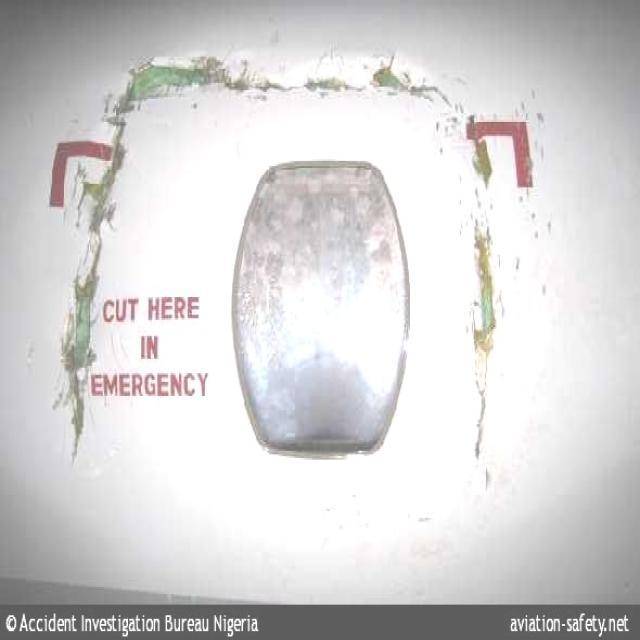crack: (49, 112, 131, 466), (121, 58, 456, 109), (471, 215, 503, 484)
